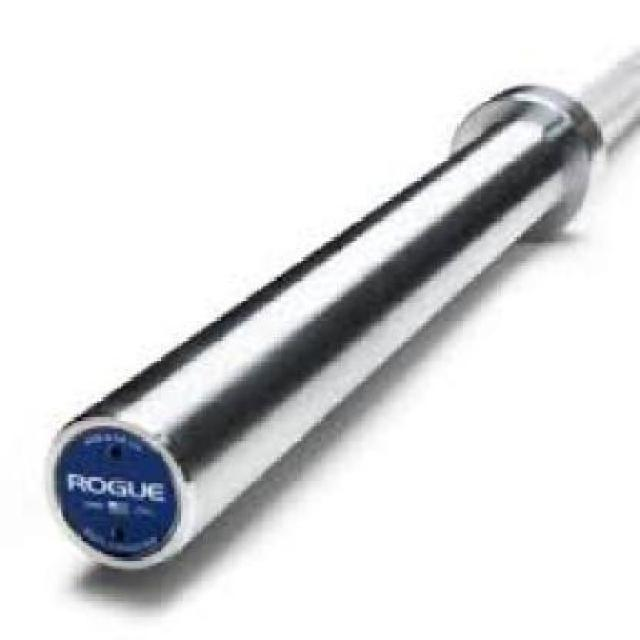barbell: (29, 80, 609, 596)
